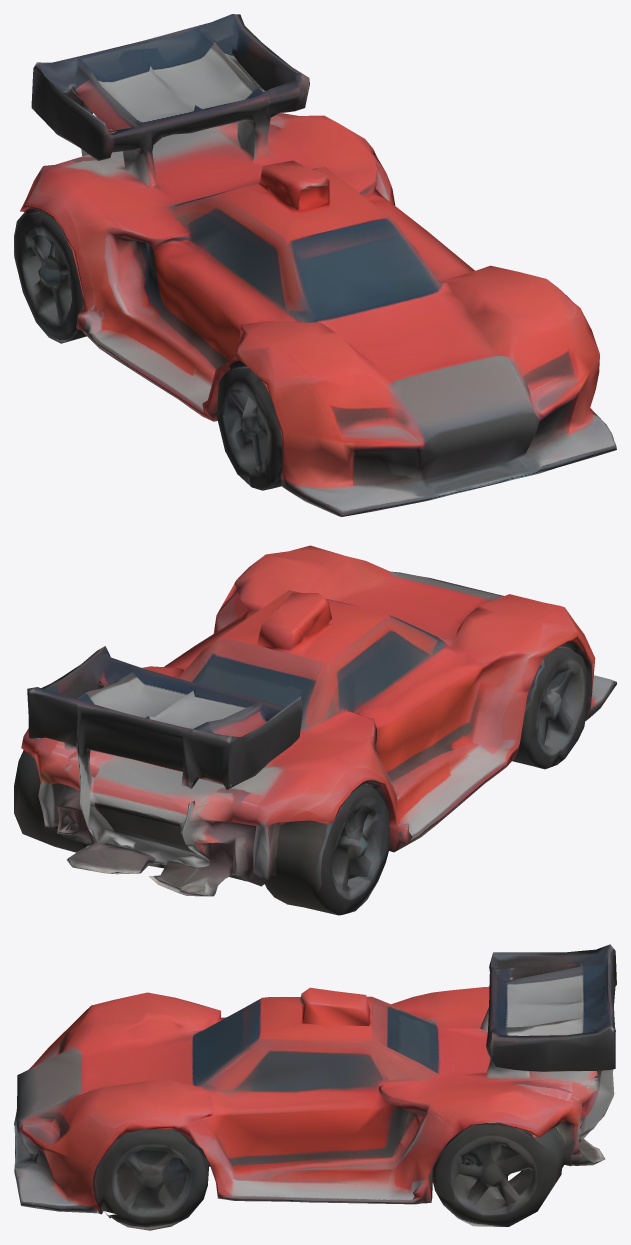
Rendered from walrus-tusk.glb.
3 views of the same model, one above another, from view 1: azimuth 30°, elevation 25°; view 2: azimuth 150°, elevation 25°; view 3: azimuth 270°, elevation 25° (orthographic). The views are drawn at different scales.
Parts seen in each view (by area): view 1: tripo_node_fc7738cb-de09-4d3b-b5a5-b00367ebf3b4; view 2: tripo_node_fc7738cb-de09-4d3b-b5a5-b00367ebf3b4; view 3: tripo_node_fc7738cb-de09-4d3b-b5a5-b00367ebf3b4.
Boxes of the visible parts, left/top/right/bottom form: tripo_node_fc7738cb-de09-4d3b-b5a5-b00367ebf3b4: left=14, top=14, right=616, bottom=516; tripo_node_fc7738cb-de09-4d3b-b5a5-b00367ebf3b4: left=14, top=545, right=616, bottom=915; tripo_node_fc7738cb-de09-4d3b-b5a5-b00367ebf3b4: left=14, top=944, right=616, bottom=1230.
Size of the model in its own units: 0.547 by 0.3348 by 0.9994.
1 material, 1 textured.
